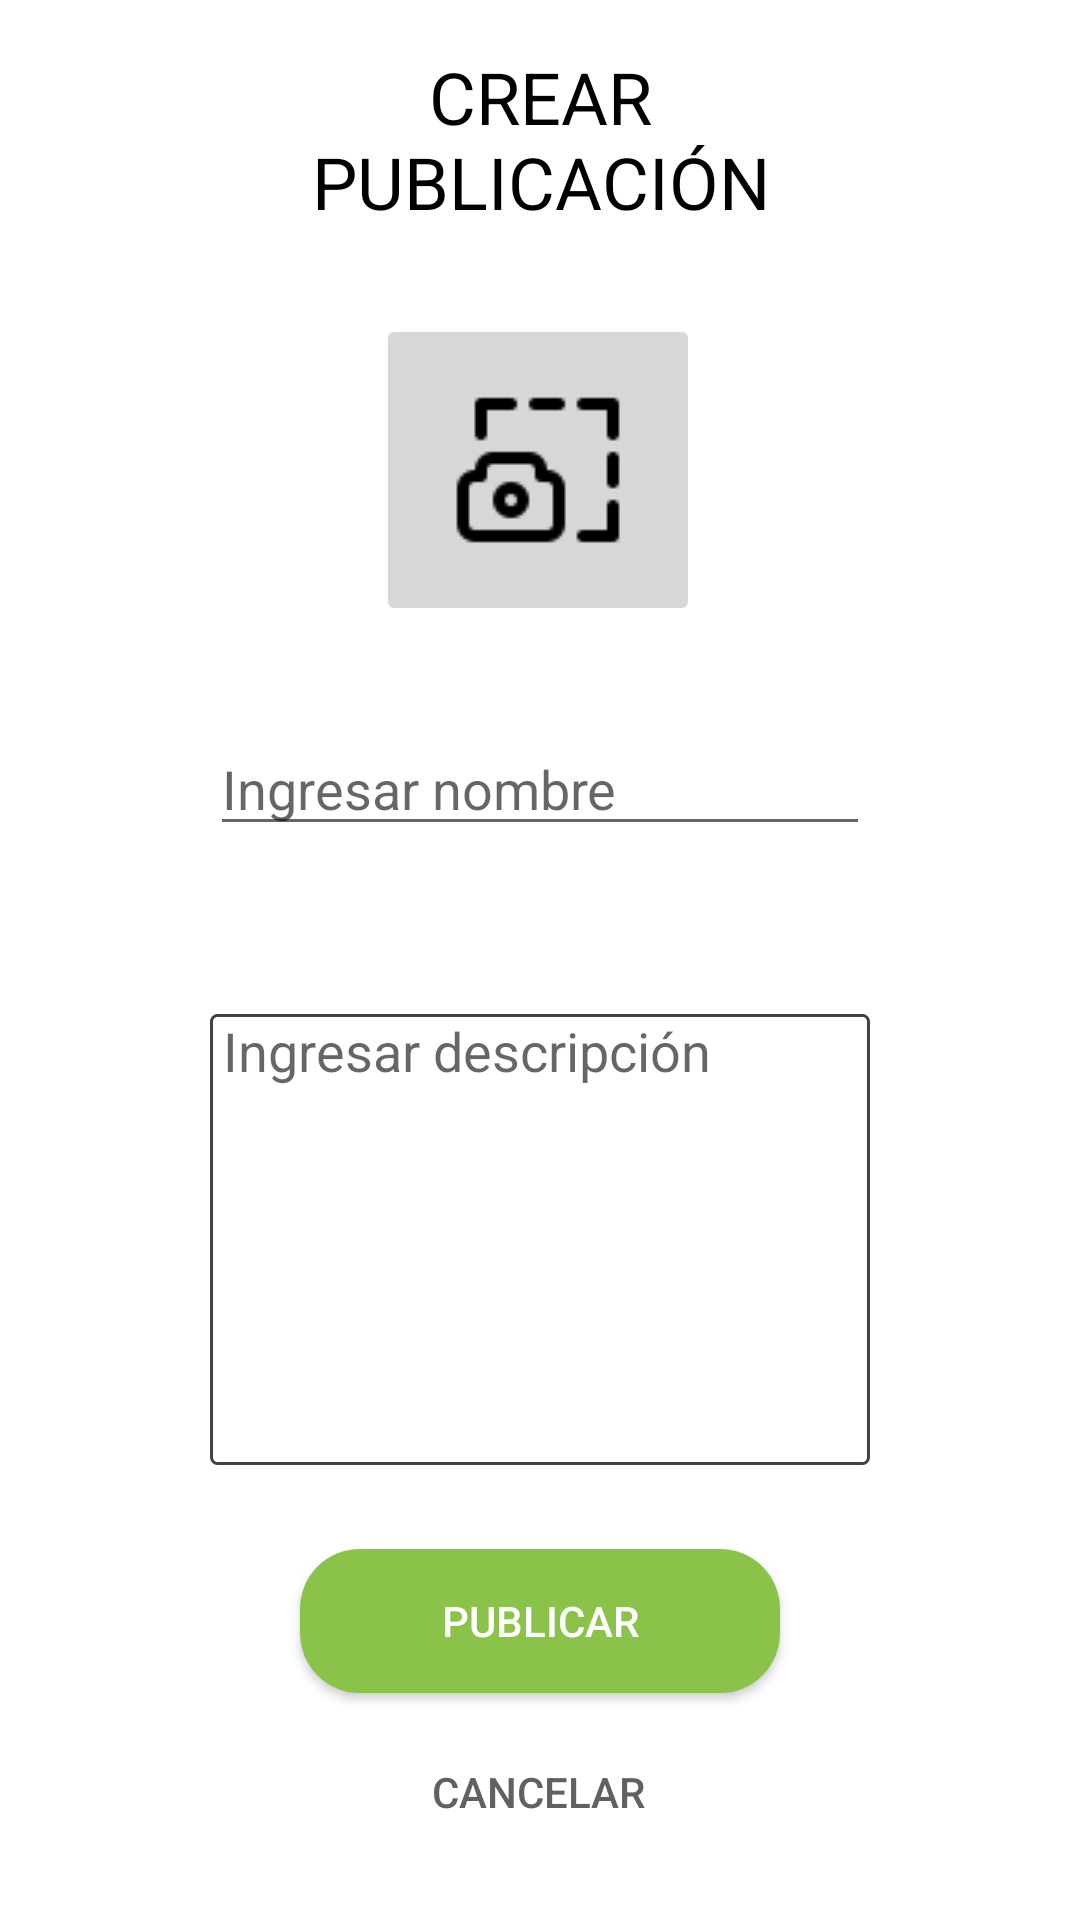

Screen size 1080×1920. Icon name, then its box in pixels as {"x1": x1, "y1": y1, "x2": x2, "y2": y2}:
tkphoto: {"x1": 388, "y1": 332, "x2": 688, "y2": 608}
